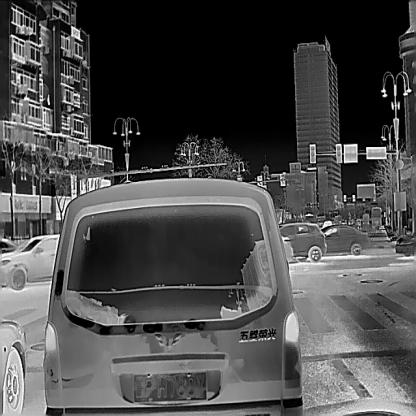bus: (370, 204, 381, 228)
car: (42, 176, 304, 415), (0, 233, 60, 291), (278, 221, 327, 263), (318, 222, 368, 255), (394, 231, 414, 257)
